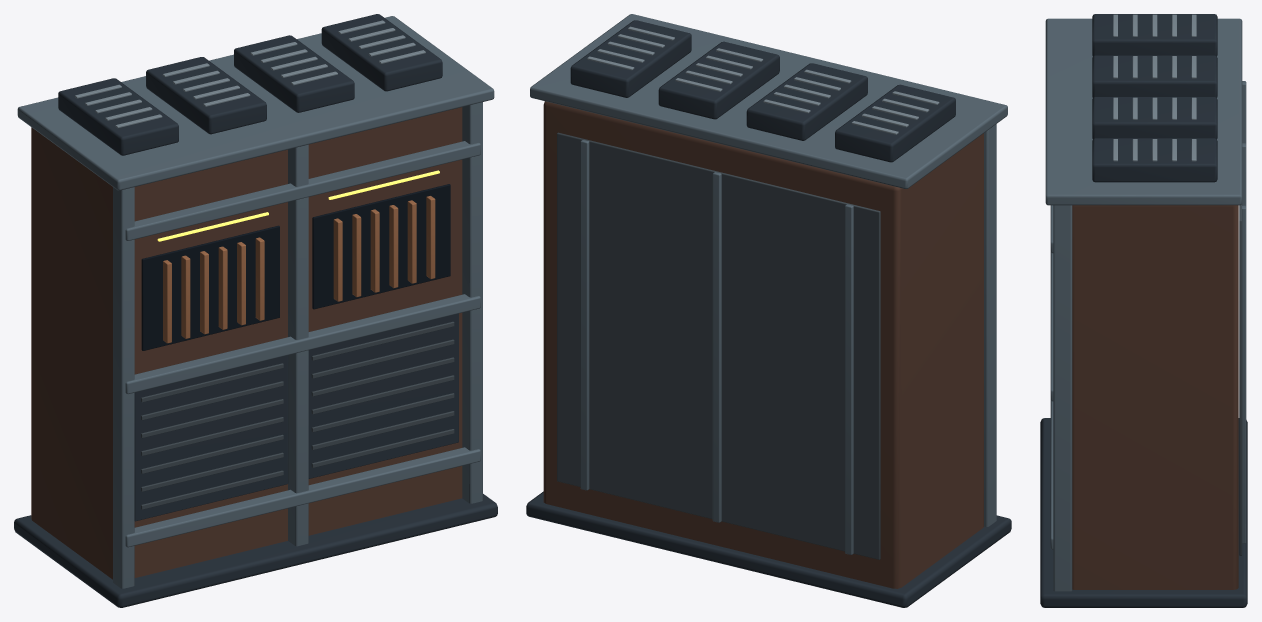
Rendered from foundry_service_bay.fbx.
3 renders of one model, left to right at view 1: azimuth 30°, elevation 25°; view 2: azimuth 150°, elevation 25°; view 3: azimuth 270°, elevation 25°, orthographic. The views are drawn at different scales.
Parts seen in each view (by area): view 1: foundry_service_bay_Geometry; view 2: foundry_service_bay_Geometry; view 3: foundry_service_bay_Geometry.
Part boxes in pixels (<box>): foundry_service_bay_Geometry: <box>14,14,497,607</box>; foundry_service_bay_Geometry: <box>526,14,1011,607</box>; foundry_service_bay_Geometry: <box>1040,14,1247,607</box>.
Bounding box in the file's own units: 7.8 × 8.76 × 3.8.
